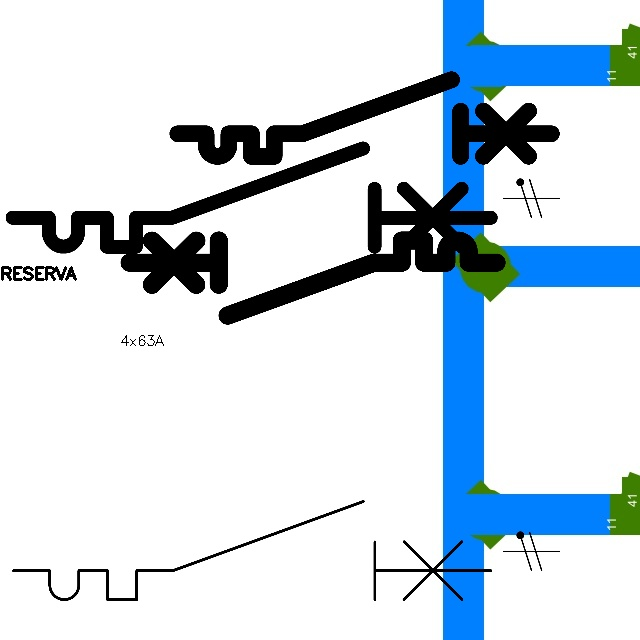interruptor_termomagnetico: (0, 136, 503, 259), (1, 489, 503, 612), (168, 70, 560, 166), (120, 231, 506, 325)
